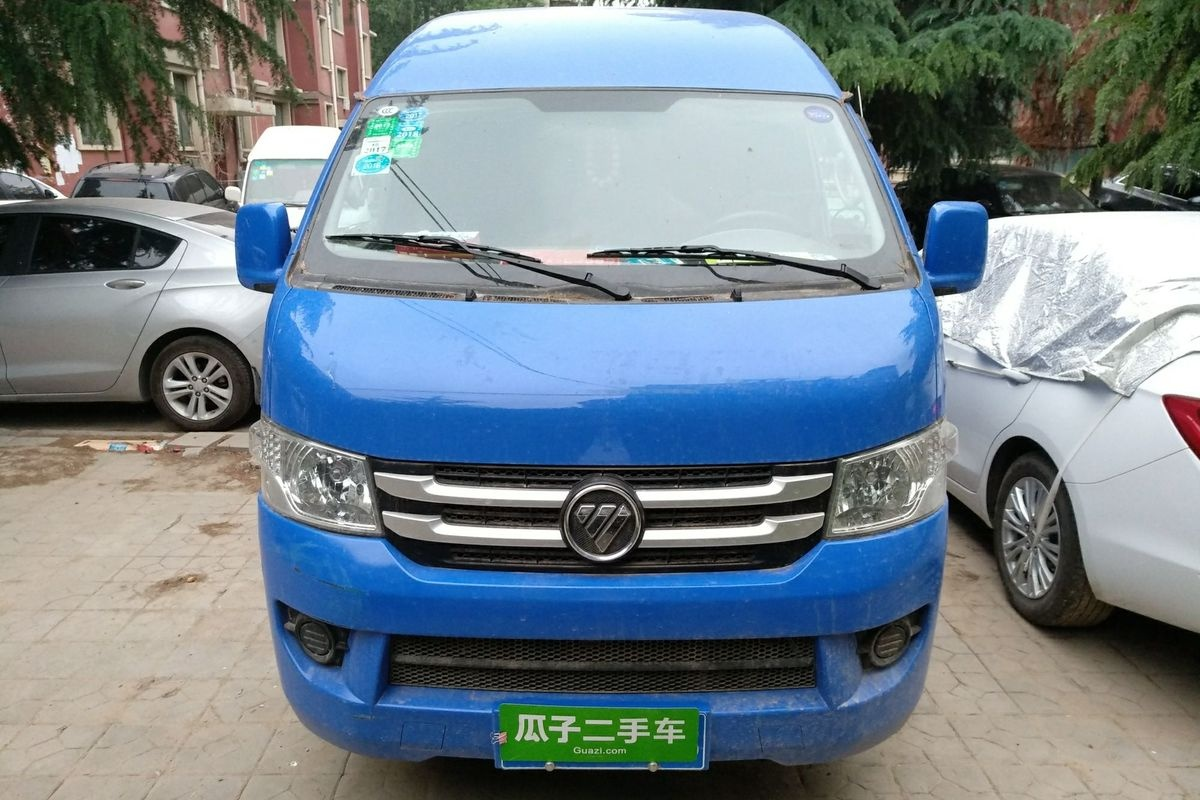minibus: (238, 15, 971, 795)
